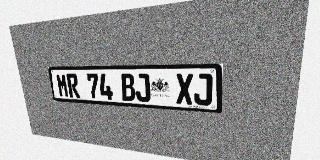4: (98, 74, 113, 100)
7: (86, 74, 101, 99)
B: (120, 74, 136, 101)
J: (194, 73, 212, 106), (134, 74, 151, 102)
M: (56, 74, 69, 97)
R: (66, 74, 80, 98)
X: (176, 74, 193, 105)
